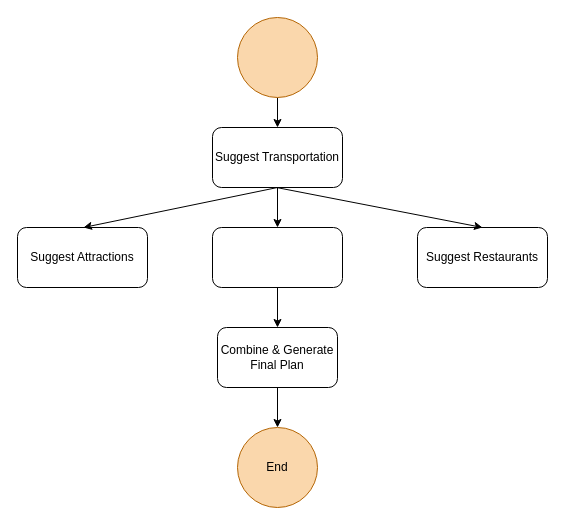
The diagram is 565 pixels wide and 525 high, and some of its shapes have lost their labels. The centre of each missing label's shape, as x and y in pixels:
"Start" goes at point (277, 57).
"Suggest Accommodations" goes at point (277, 257).
